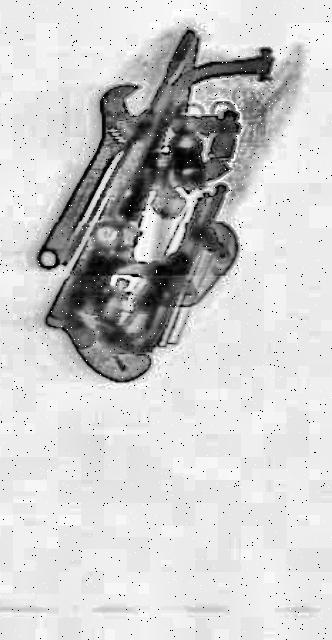Wrench: (24, 52, 162, 296)
